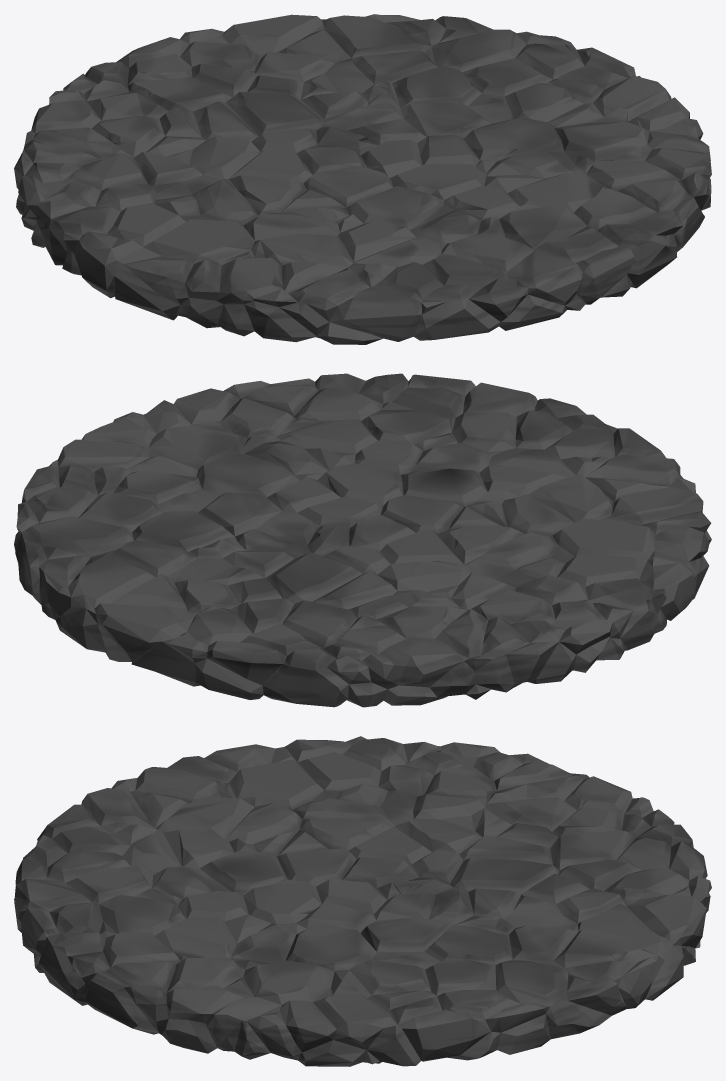
Rendered from rock_flooring.fbx.
3 views of the same model, one above another, from view 1: azimuth 30°, elevation 25°; view 2: azimuth 150°, elevation 25°; view 3: azimuth 270°, elevation 25° (orthographic).
Visible parts, largest first — view 1: Cube; view 2: Cube; view 3: Cube.
Boxes of the visible parts, left/top/right/bottom form: Cube: left=14, top=14, right=711, bottom=344; Cube: left=14, top=373, right=711, bottom=707; Cube: left=14, top=736, right=711, bottom=1066.
Size of the model in its own units: 1081 by 88.18 by 1081.
Materials: 1 (1 with a texture image).
